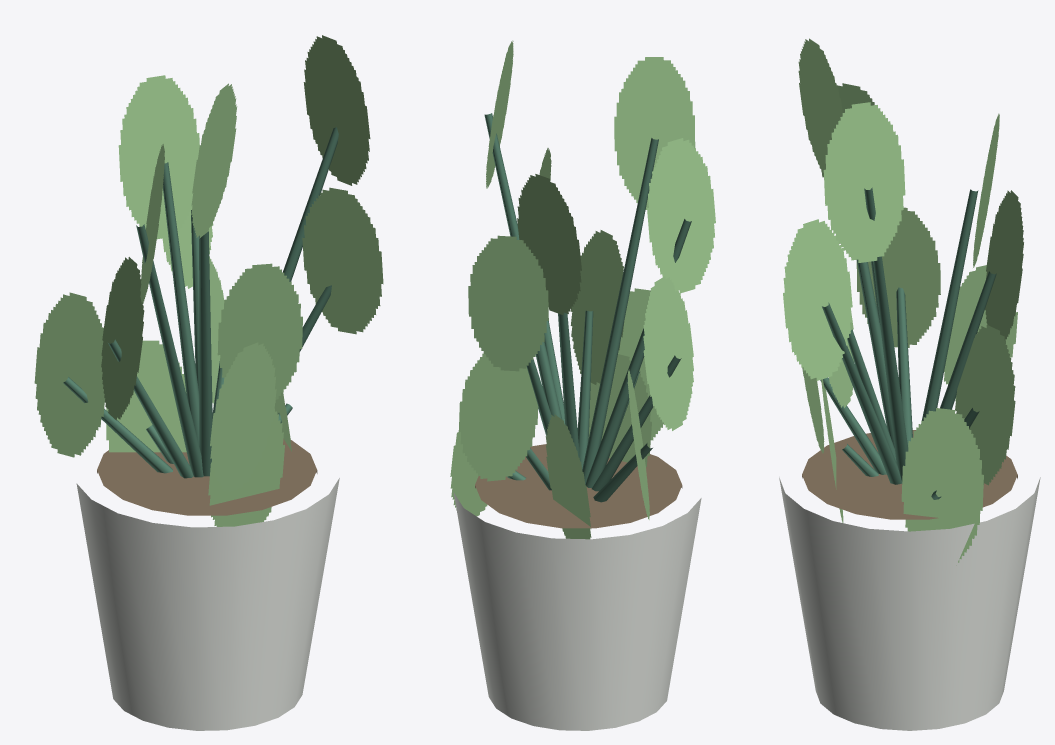
File: plant_potted01.glb
The picture shows the model from 3 angles, left to right: view 1: azimuth 30°, elevation 25°; view 2: azimuth 150°, elevation 25°; view 3: azimuth 270°, elevation 25°; orthographic projection. The views are drawn at different scales.
Parts seen in each view (by area): view 1: foliage, pot, stems, soil; view 2: foliage, pot, stems, soil; view 3: foliage, pot, stems, soil.
Part boxes in pixels (left/top/right/bottom): foliage: left=34, top=35, right=383, bottom=526; pot: left=76, top=478, right=339, bottom=730; stems: left=63, top=127, right=338, bottom=478; soil: left=97, top=439, right=317, bottom=515; foliage: left=450, top=40, right=715, bottom=539; pot: left=453, top=492, right=701, bottom=730; stems: left=484, top=113, right=691, bottom=502; soil: left=475, top=444, right=682, bottom=528; foliage: left=783, top=38, right=1023, bottom=565; pot: left=779, top=477, right=1040, bottom=730; stems: left=820, top=187, right=996, bottom=499; soil: left=802, top=430, right=1017, bottom=519.
Size of the model in its own units: 0.3682 by 0.865 by 0.3392.
Materials: 4 (1 with a texture image).
